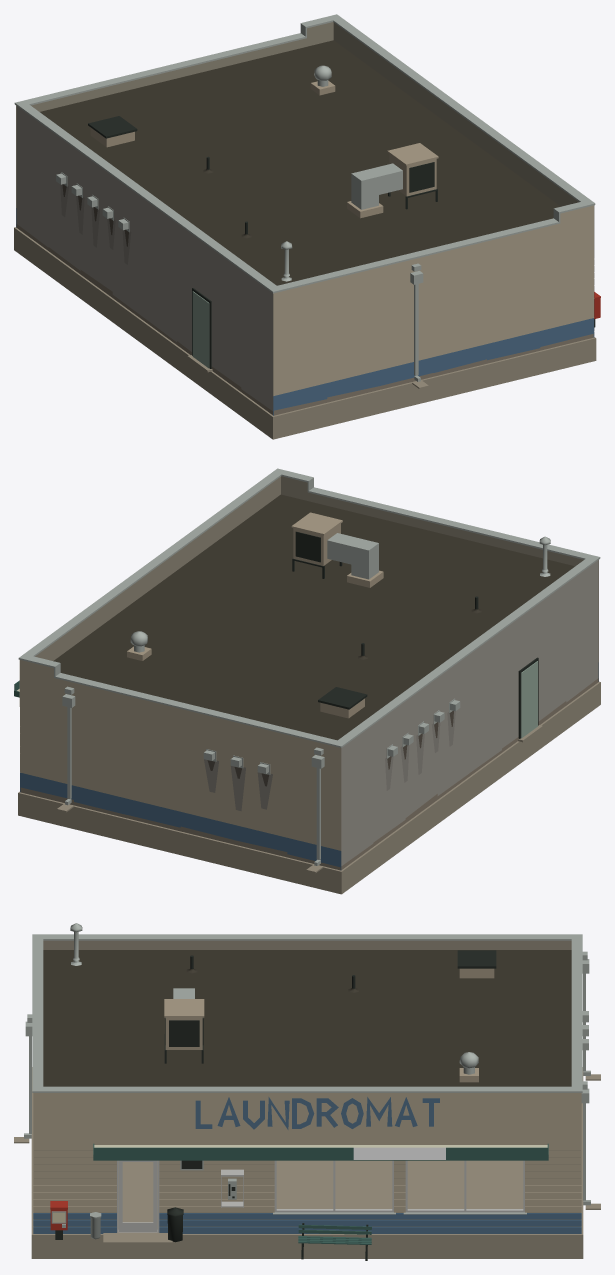
Rendered from SM_Town_Laundry_Shell_LOD2.fbx.
The picture shows the model from 3 angles, top to bottom: view 1: azimuth 30°, elevation 25°; view 2: azimuth 150°, elevation 25°; view 3: azimuth 270°, elevation 25°; orthographic projection. The views are drawn at different scales.
Parts seen in each view (by area): view 1: SM_Town_Laundry_Shell_LOD2; view 2: SM_Town_Laundry_Shell_LOD2; view 3: SM_Town_Laundry_Shell_LOD2.
Boxes of the visible parts, <box> form: SM_Town_Laundry_Shell_LOD2: <box>14,14,600,439</box>; SM_Town_Laundry_Shell_LOD2: <box>14,468,600,894</box>; SM_Town_Laundry_Shell_LOD2: <box>14,923,600,1260</box>.
Bounding box in the file's own units: 11.12 × 15.24 × 5.55.
